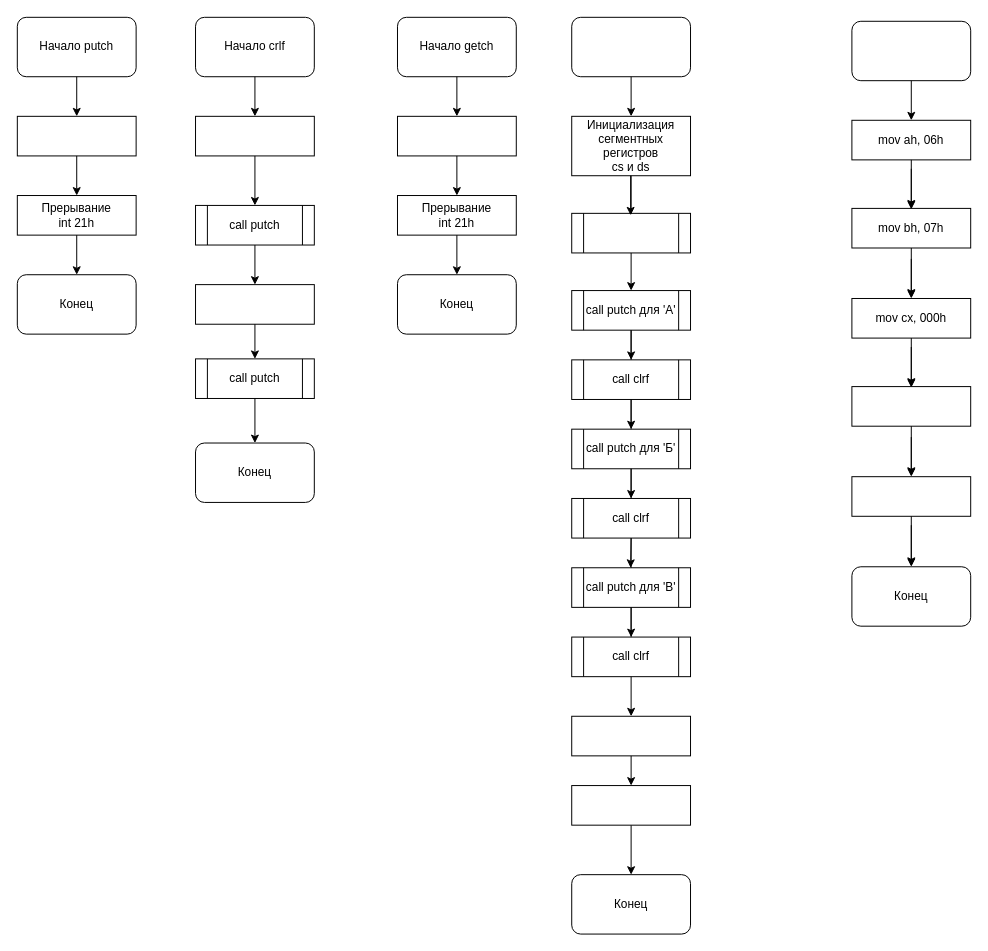
Some shapes in this 988 by 951 pixel diagram are drawn without their labels. Each missing label, with the box of its shape:
call clrscr: (571, 212, 691, 253)
mov ah, 01h: (396, 115, 516, 156)
mov ah, 02h: (16, 115, 136, 156)
mov dl, 10: (195, 284, 314, 324)
mov dl, 13: (195, 115, 314, 156)
mov dx, 184fh: (851, 386, 971, 426)
Завершение программы: (571, 785, 691, 825)
Начало: (571, 16, 691, 77)
Начало clrscr: (851, 20, 971, 81)
Ожидание нажатия любой клавиши: (571, 715, 691, 756)
Прерывание int 10h: (851, 476, 971, 516)
